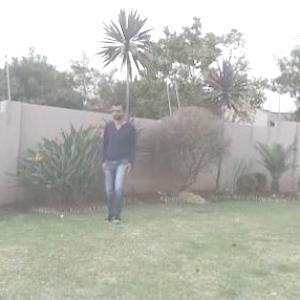follow: (98, 94, 138, 226)
